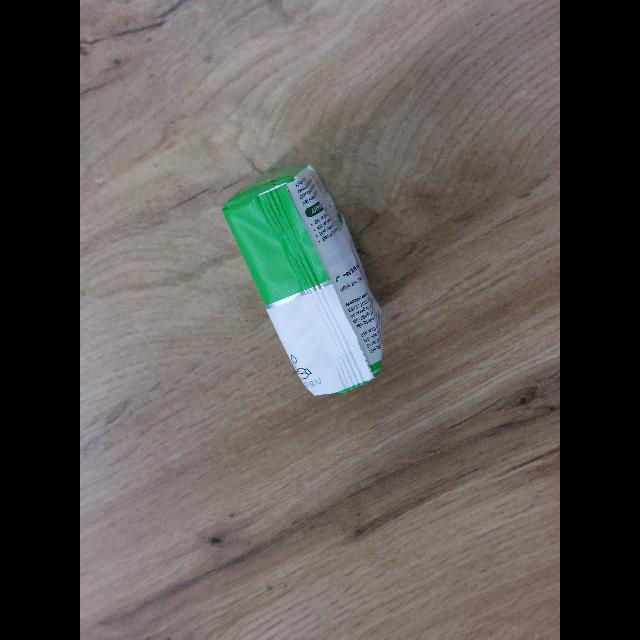khan_giay: (221, 162, 384, 396)
